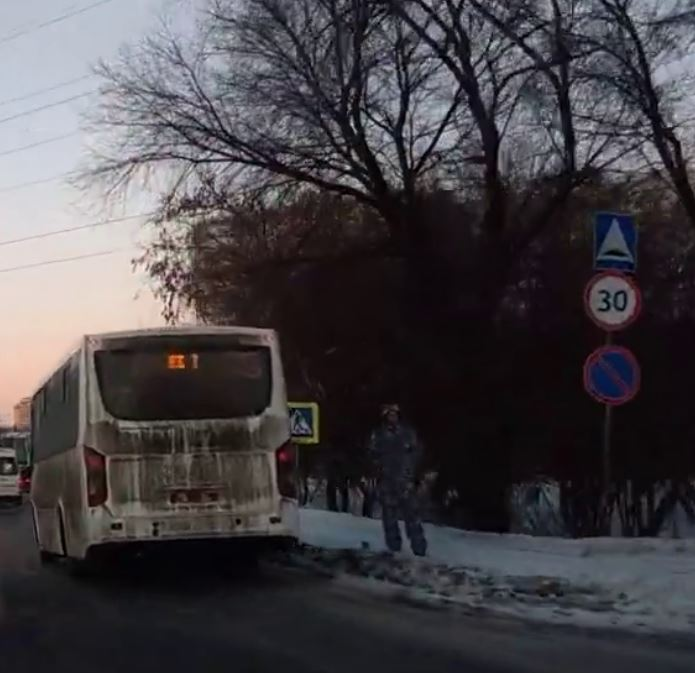30 Km Hiz Siniri: (580, 270, 644, 329)
